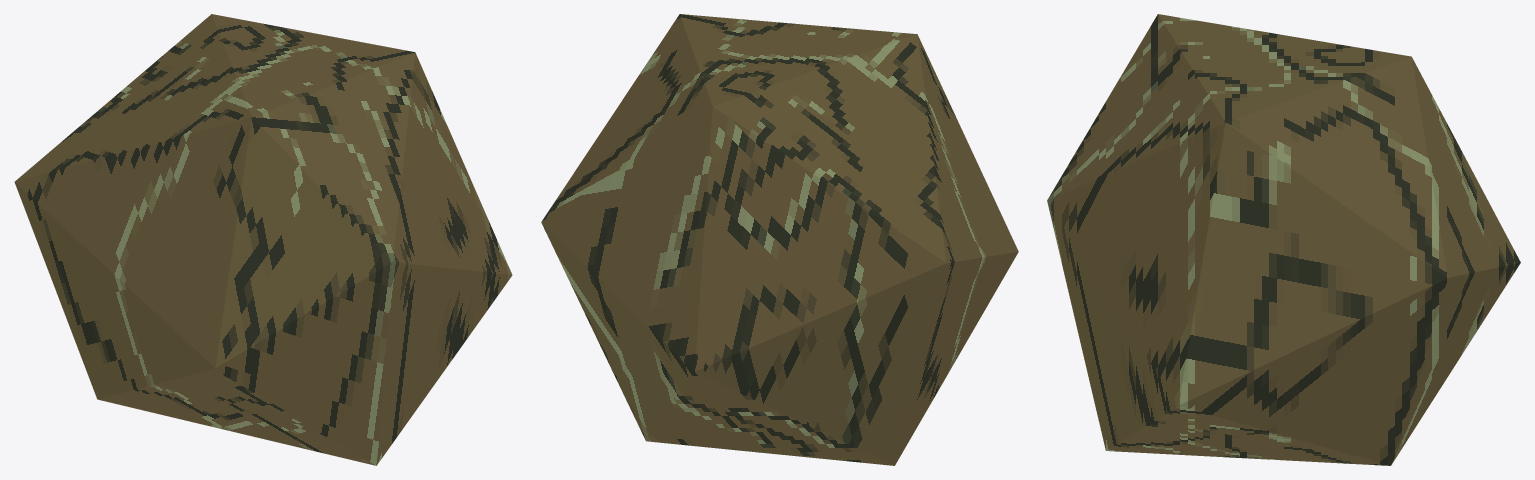
Rendered from darkbrown_asteroid.glb.
3 views of the same model, side by side, from view 1: azimuth 30°, elevation 25°; view 2: azimuth 150°, elevation 25°; view 3: azimuth 270°, elevation 25° (orthographic). The views are drawn at different scales.
Parts seen in each view (by area): view 1: normal_asteroid_v2; view 2: normal_asteroid_v2; view 3: normal_asteroid_v2.
Boxes of the visible parts, x1,y1,x2,y2 form: normal_asteroid_v2: (14,14,512,465); normal_asteroid_v2: (541,14,1018,465); normal_asteroid_v2: (1047,14,1520,465).
Bounding box in the file's own units: 1.94 × 1.64 × 1.83.
1 material, 1 textured.
